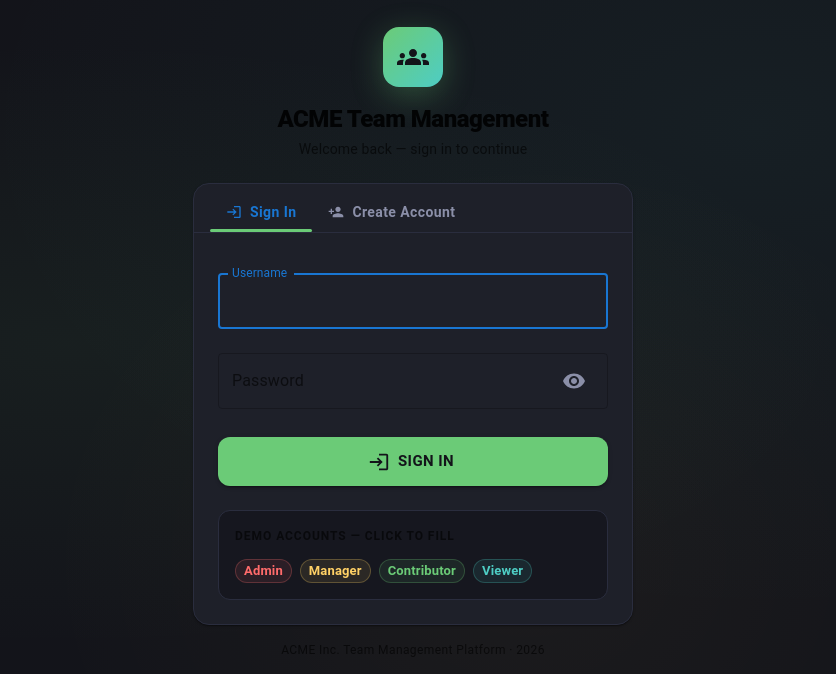
LoginPage › fills form when demo credential chip clicked
The image size is (836, 674).
Click the Admin demo chip
Click the button "Admin" at coordinates (263, 571), box [235,559,292,583]
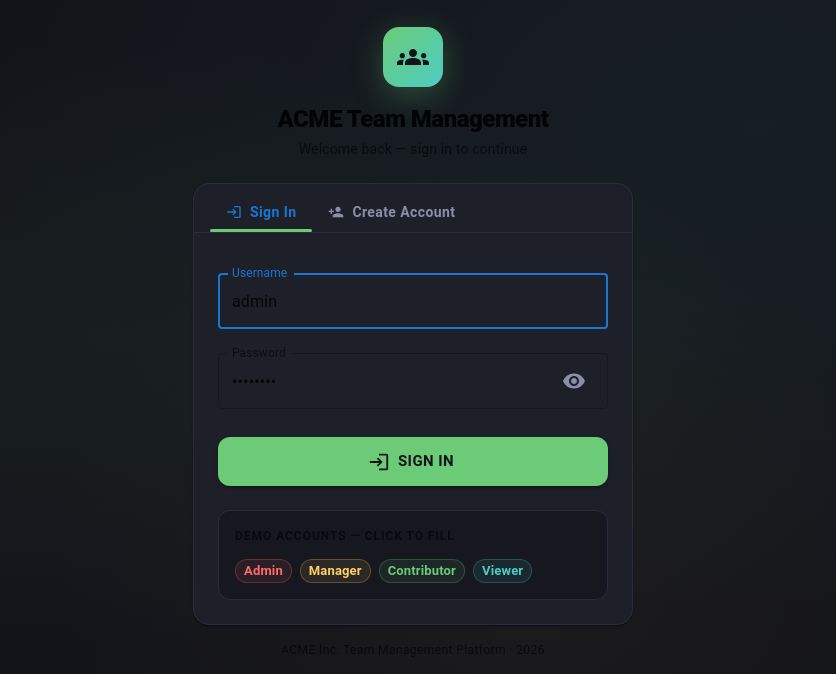
Now the field labelled "Username" holds "admin", box [218,273,608,329]
